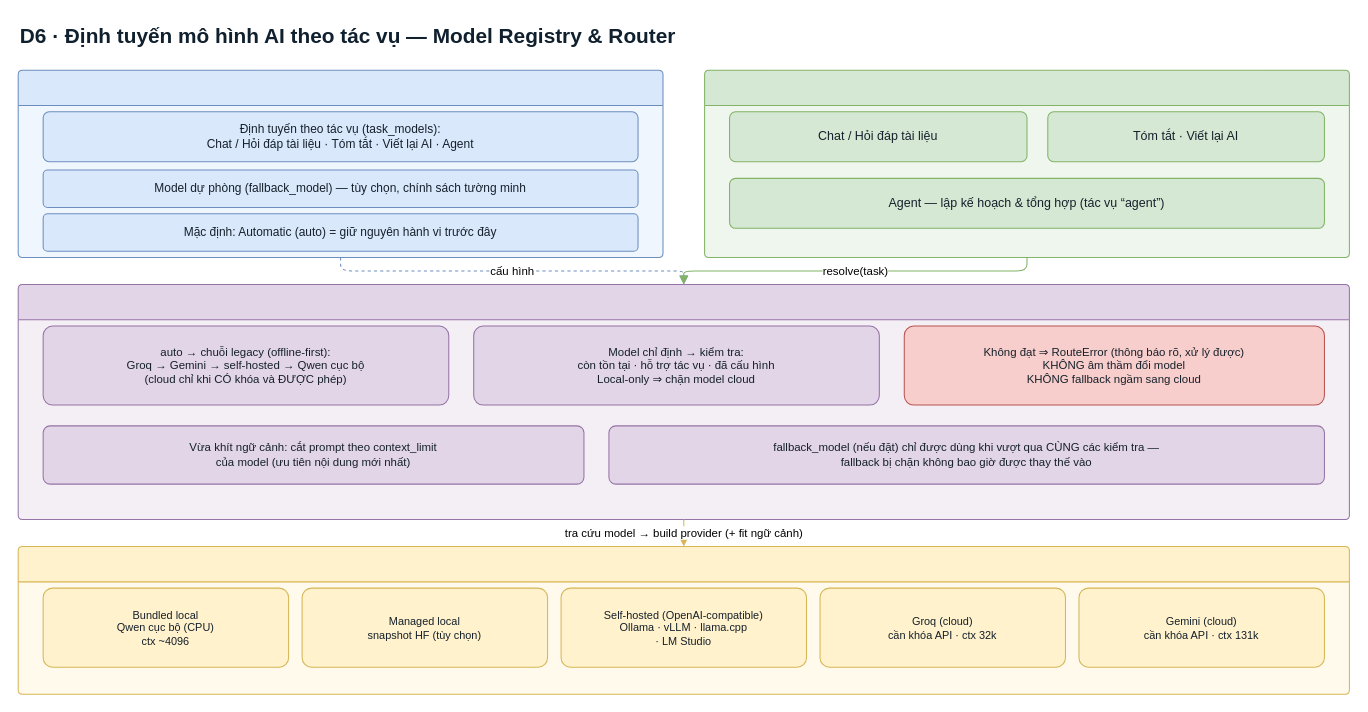
The diagram is 1368 pixels wide and 712 high, and some of its shapes have lost their labels. The box of each missing label's shape, as (x1, y1, x2, y2) in pixels:
Cài đặt → AI models: (17, 69, 663, 257)
Các consumer LLM (mọi lời gọi đều hỏi Router): (704, 69, 1349, 257)
Model Registry — danh mục model (không bao giờ giữ khóa API): (17, 545, 1349, 694)
Model Router — llm_gateway.resolve(task): (17, 283, 1349, 519)
